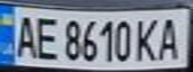0: (115, 16, 136, 63)
1: (97, 17, 118, 63)
6: (78, 17, 100, 63)
8: (60, 16, 81, 62)
A: (9, 11, 39, 60), (154, 14, 184, 62)
E: (33, 12, 60, 61)
K: (133, 15, 160, 62)
